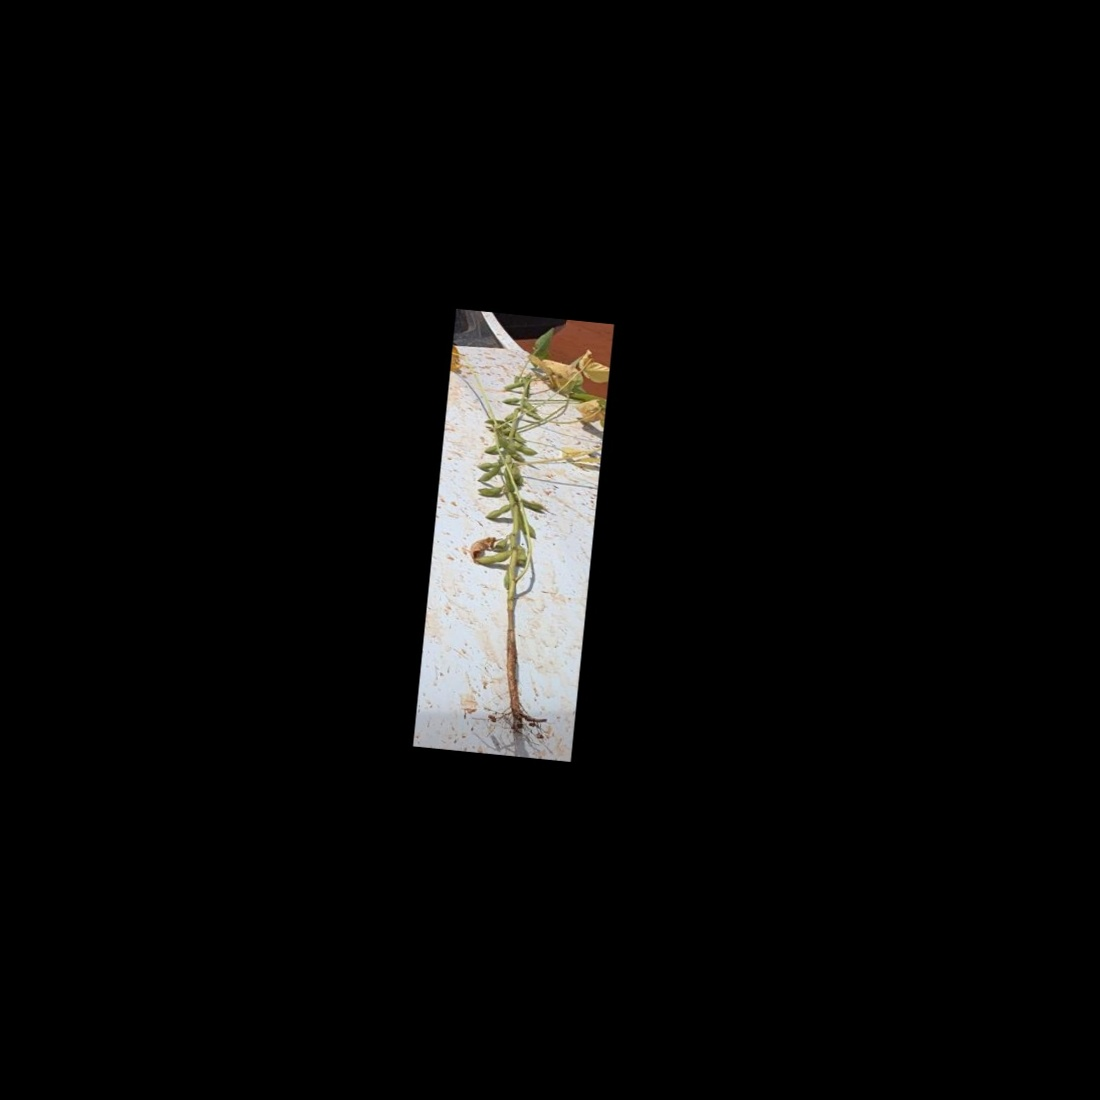pod: (469, 546, 519, 569), (483, 500, 514, 522), (472, 482, 507, 500), (511, 442, 540, 458), (474, 458, 504, 473), (499, 394, 523, 406)
soy: (436, 353, 594, 730)
